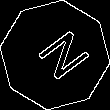N_SW: (23, 24, 87, 86)
